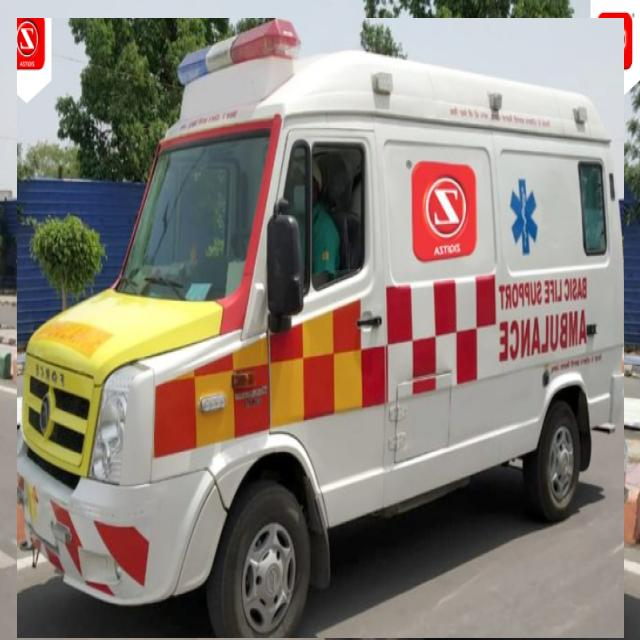emergency: (18, 18, 624, 638)
